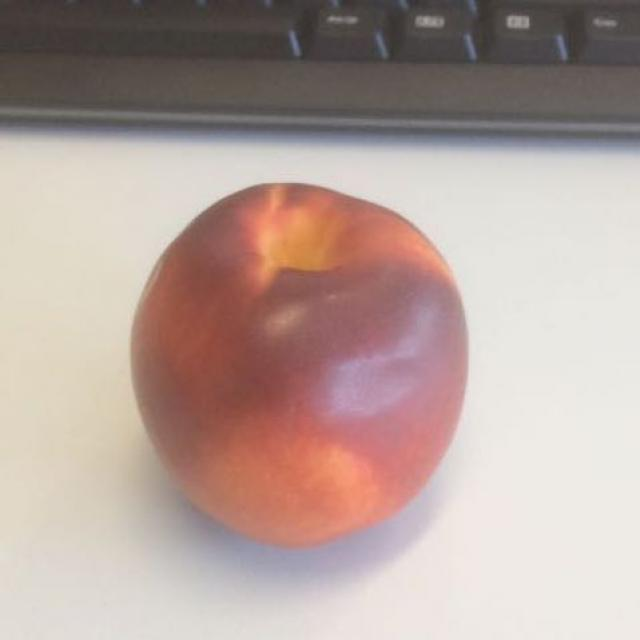nectarine: (132, 185, 467, 543)
